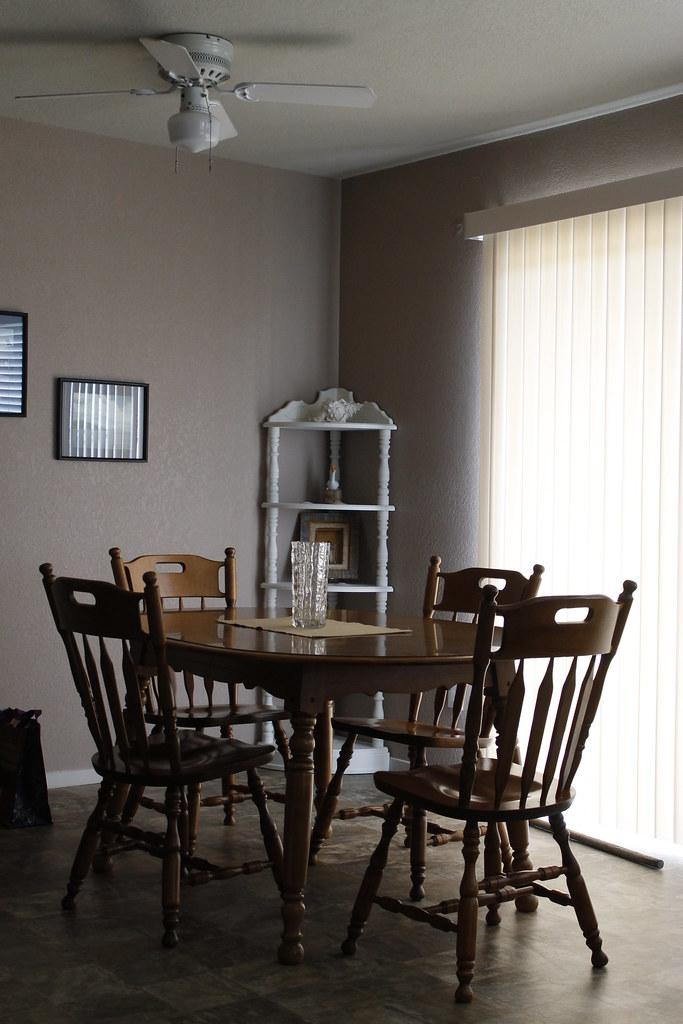table: (124, 603, 519, 964)
